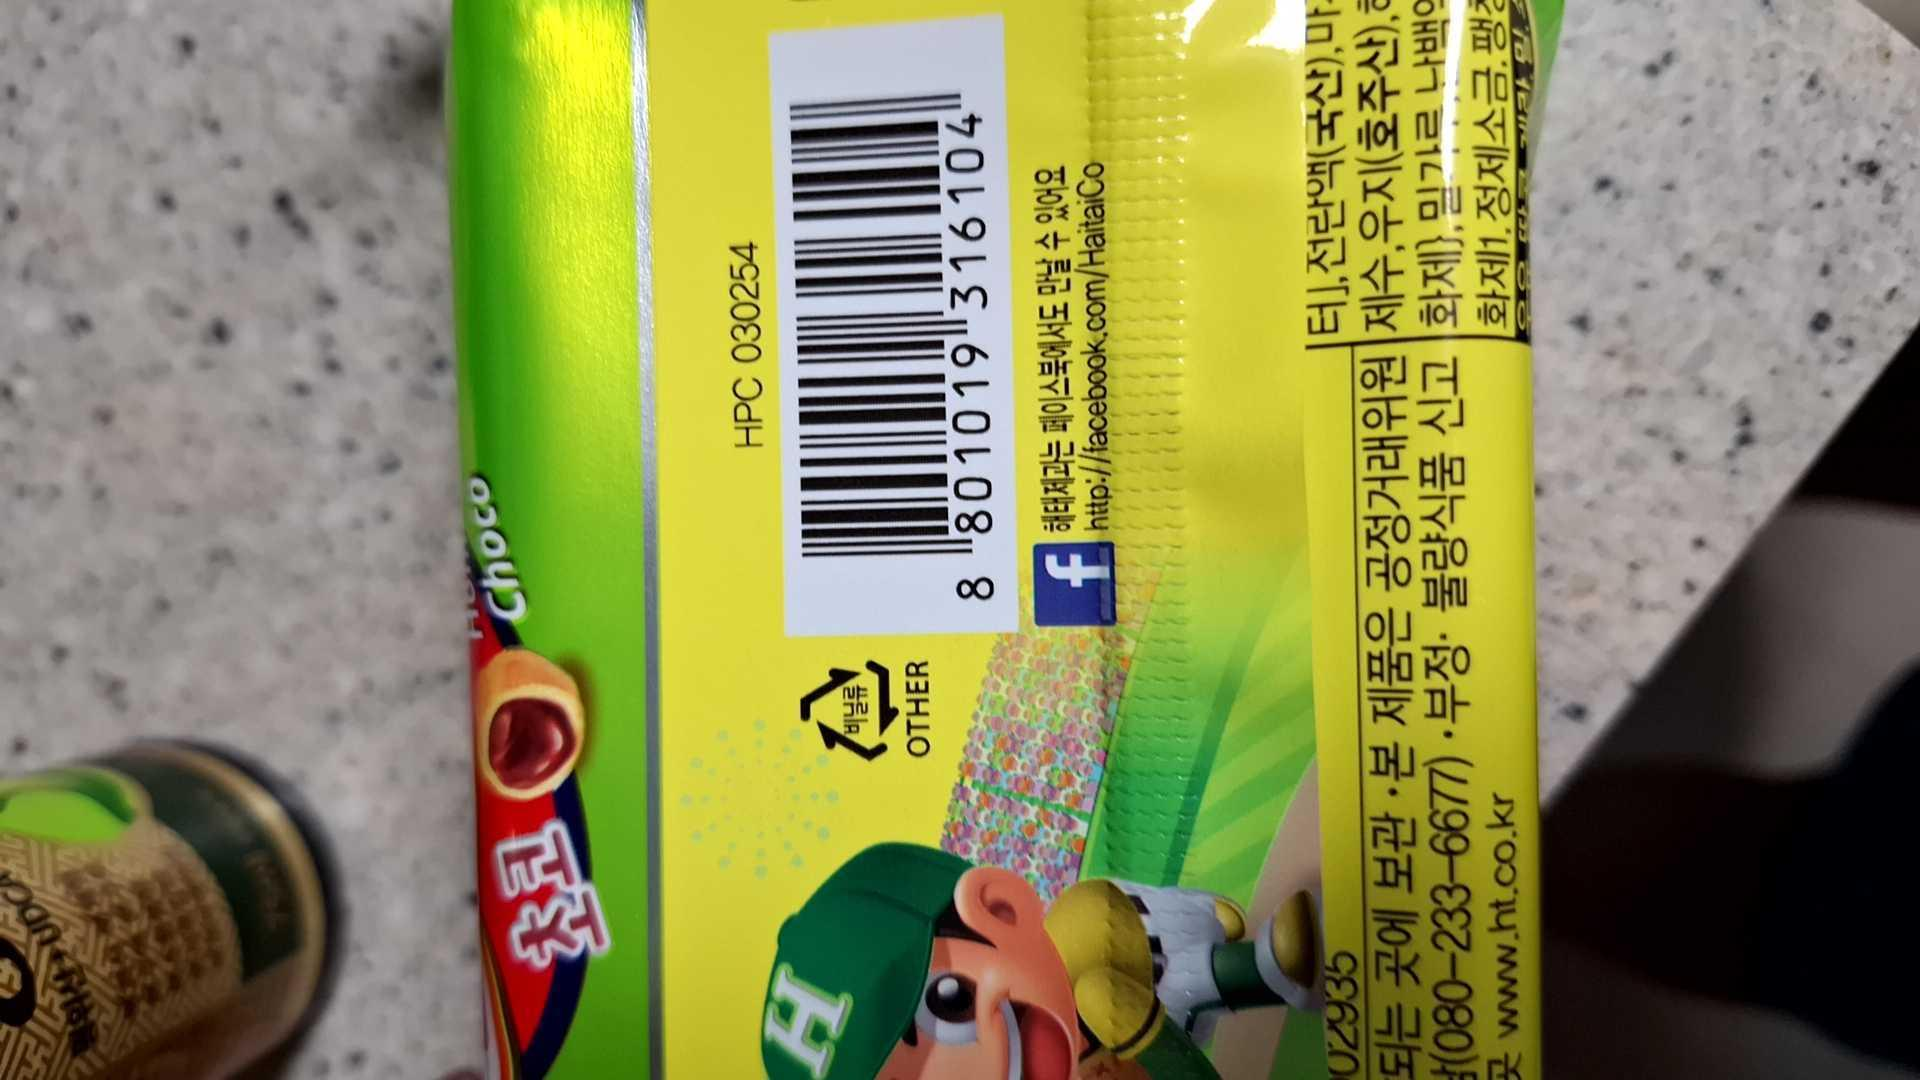cow-12000-2024-8-30: (794, 75, 1009, 608)
